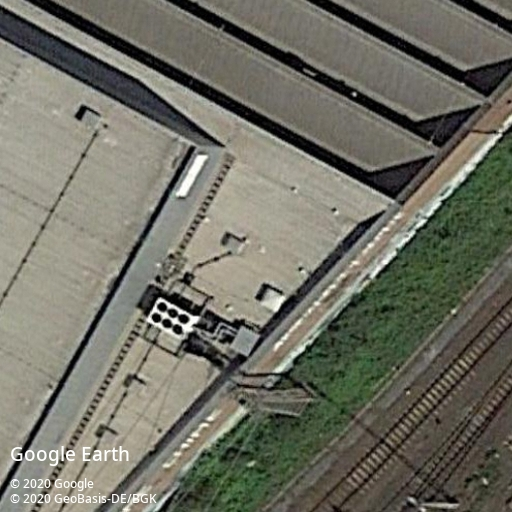Chiller: (146, 297, 201, 338)
